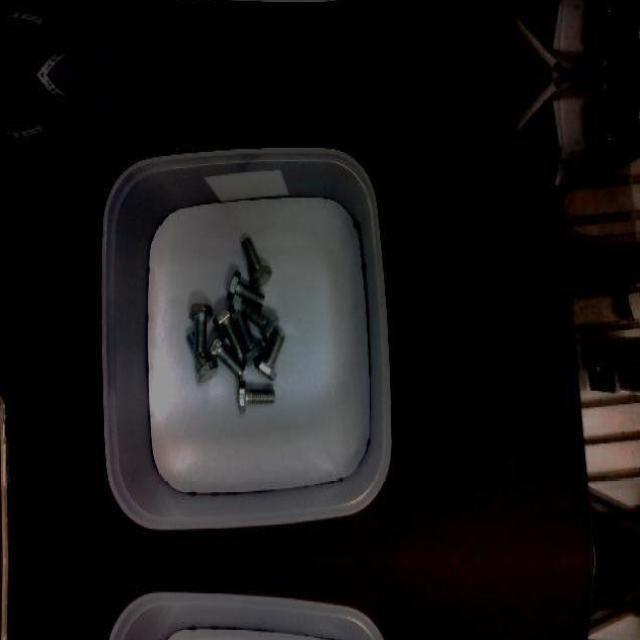screw: (208, 330, 246, 379), (254, 329, 286, 380), (213, 305, 244, 356), (227, 268, 266, 308), (241, 236, 272, 286), (243, 304, 280, 344), (189, 301, 214, 356), (238, 379, 275, 414)
